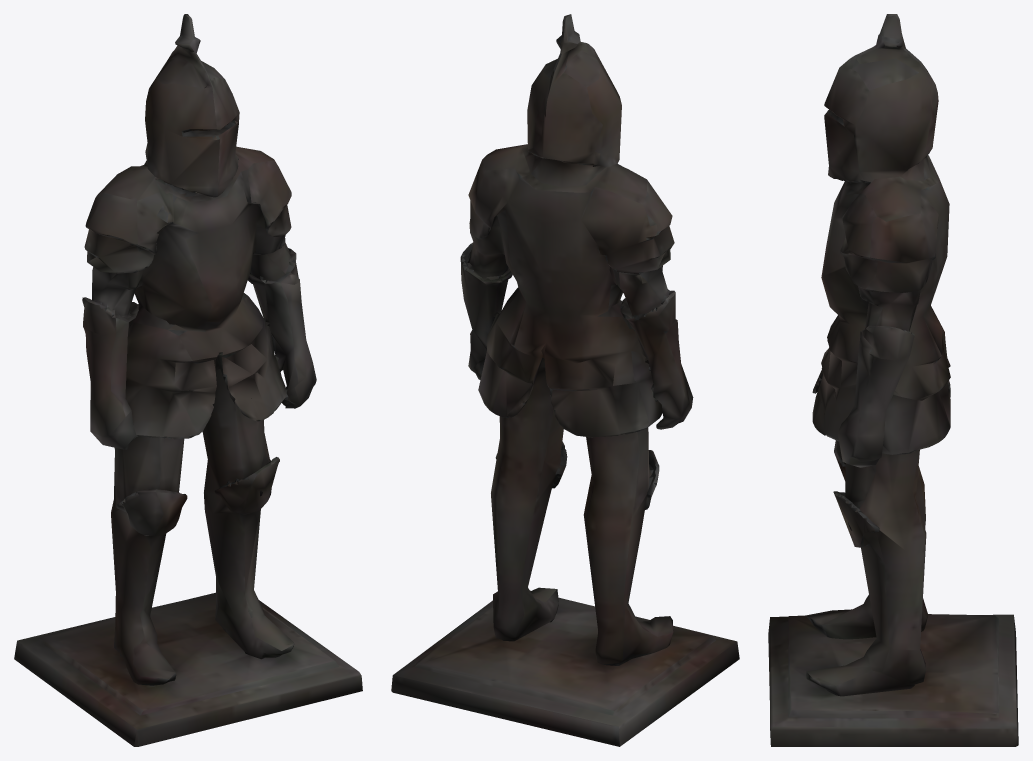
File: weathered-iron-suit-of-armour-v001.glb
3 views of the same model, side by side, from view 1: azimuth 30°, elevation 25°; view 2: azimuth 150°, elevation 25°; view 3: azimuth 270°, elevation 25° (orthographic). The views are drawn at different scales.
Visible parts, largest first — view 1: weathered-iron-suit-of-armour; view 2: weathered-iron-suit-of-armour; view 3: weathered-iron-suit-of-armour.
Part boxes in pixels (x1,y1,x2,y2): weathered-iron-suit-of-armour: (14,14,362,746); weathered-iron-suit-of-armour: (391,14,739,746); weathered-iron-suit-of-armour: (768,14,1018,746).
Bounding box in the file's own units: 0.714 × 1.97 × 0.6619.
1 material, 1 textured.
